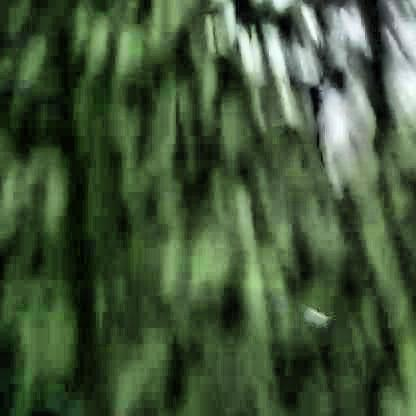golfball: (302, 309, 326, 327)
